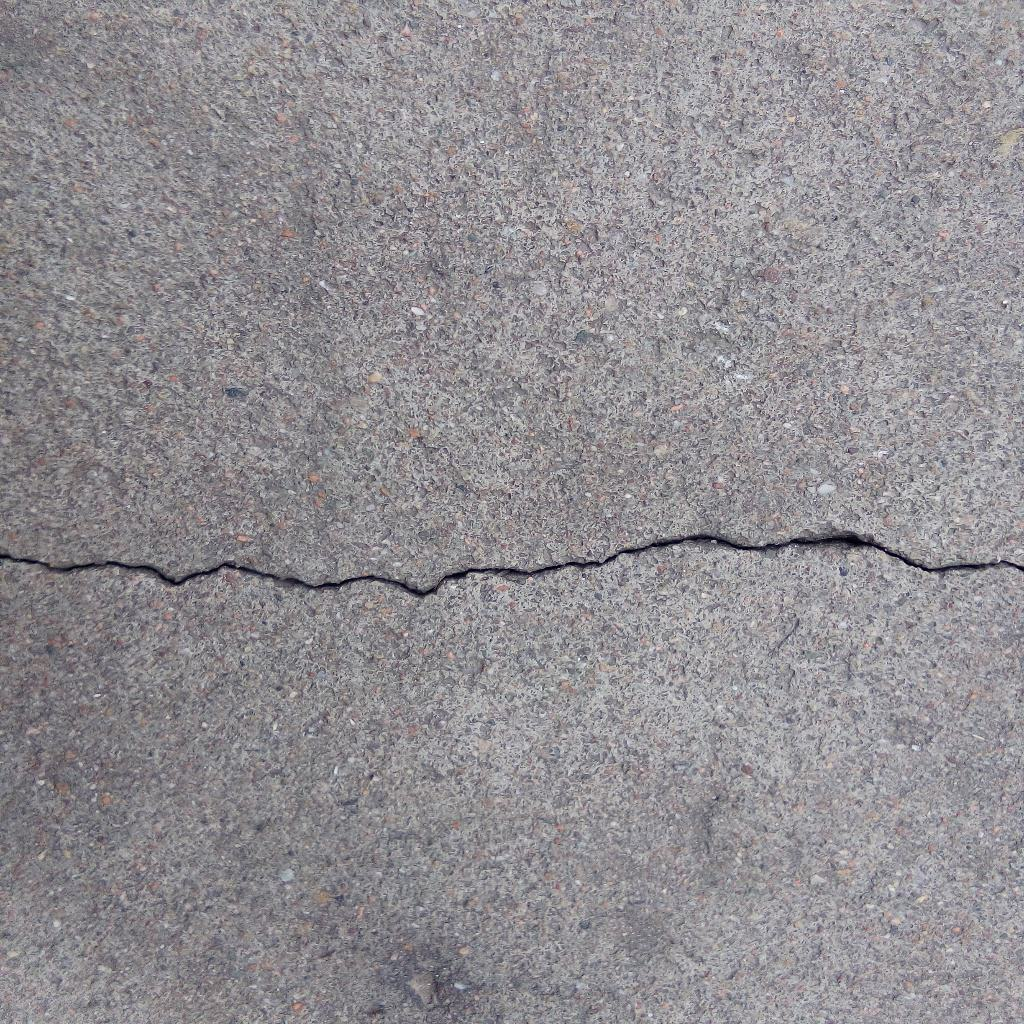Crack: (1, 530, 1024, 597)
